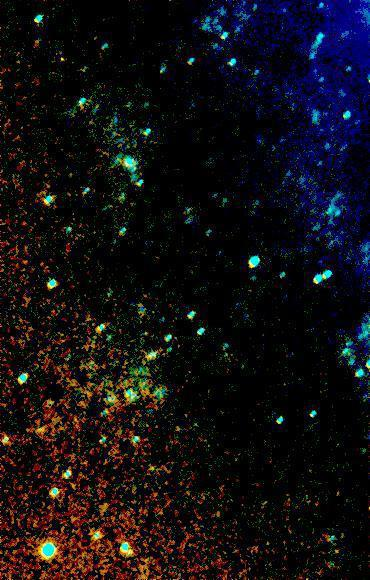star: (47, 45, 77, 75)
